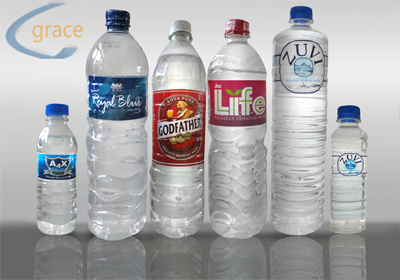Bottle: (257, 3, 329, 232), (79, 7, 149, 242), (203, 12, 268, 237), (150, 14, 207, 239), (24, 98, 77, 239), (323, 98, 371, 243)
